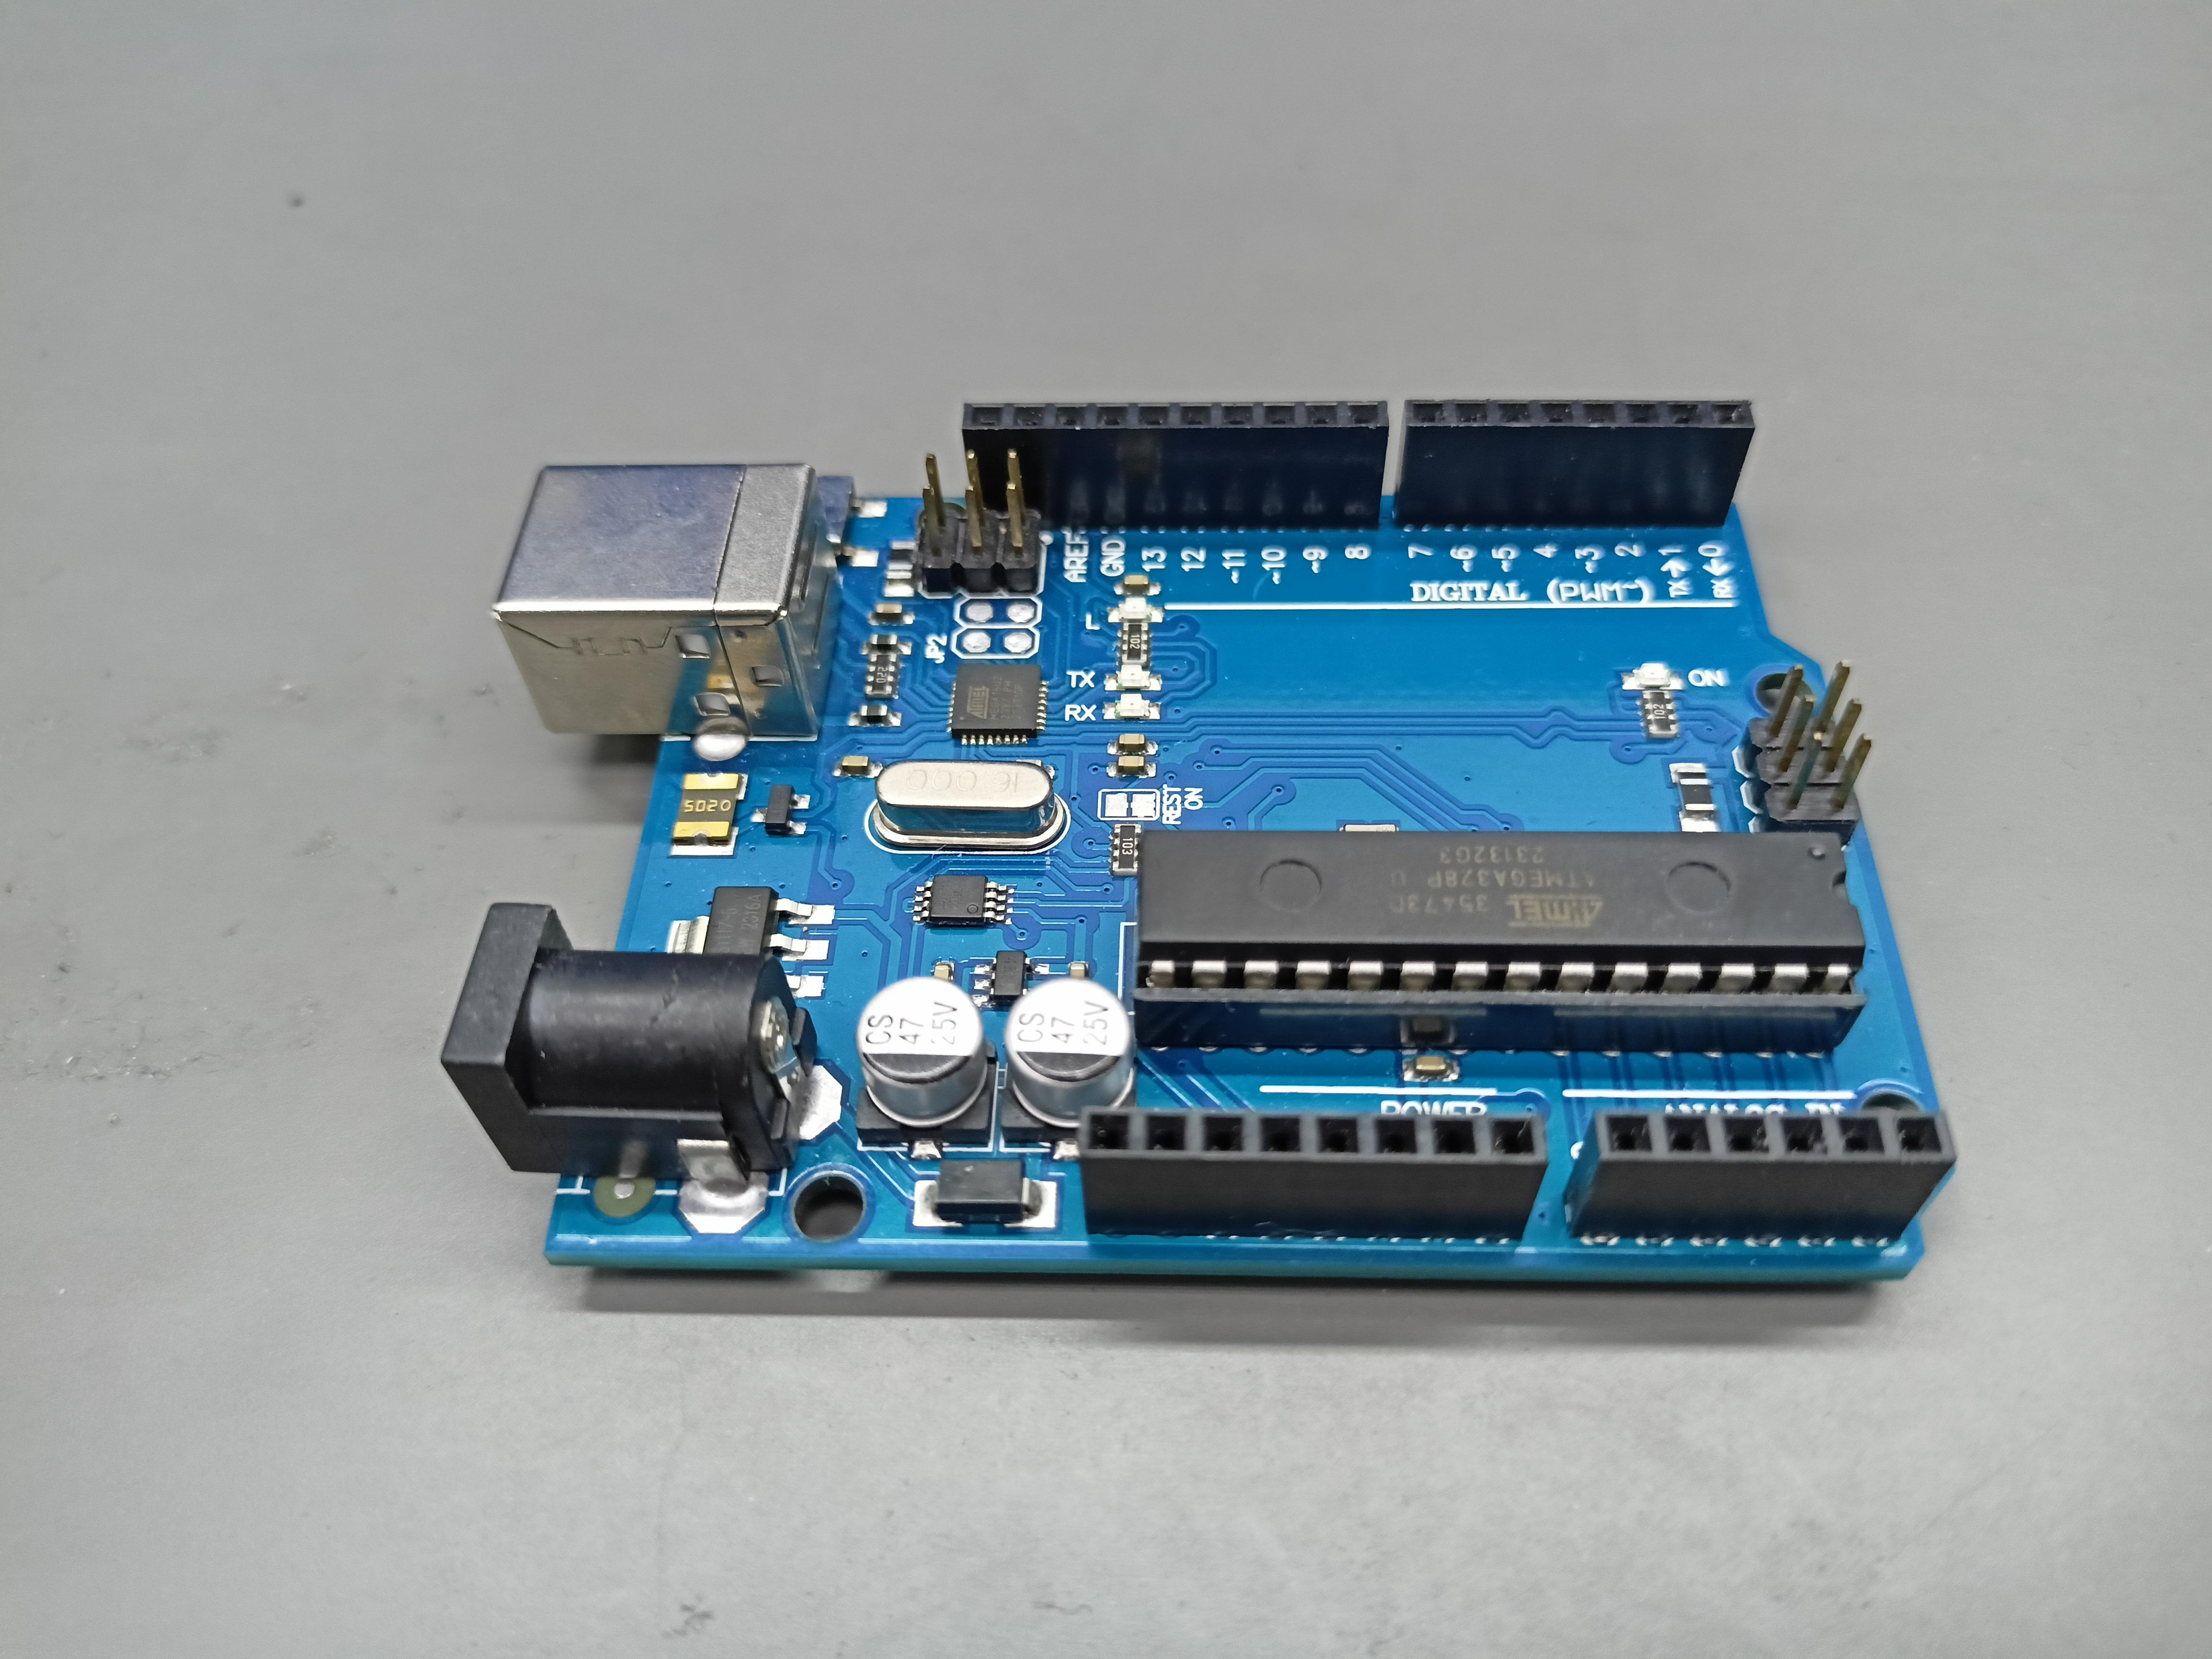ATmega328 chip: (1134, 829, 1867, 1053)
Arduino board: (441, 399, 1958, 1281)
USB: (493, 464, 843, 735)
capacitor: (855, 978, 998, 1145), (1001, 976, 1137, 1140)
pins: (1080, 1107, 1550, 1239), (961, 401, 1390, 530), (1562, 1110, 1958, 1241), (1393, 401, 1756, 526)
resistor: (1641, 690, 1679, 739), (866, 652, 899, 699), (1111, 824, 1141, 877), (1122, 622, 1150, 667)
